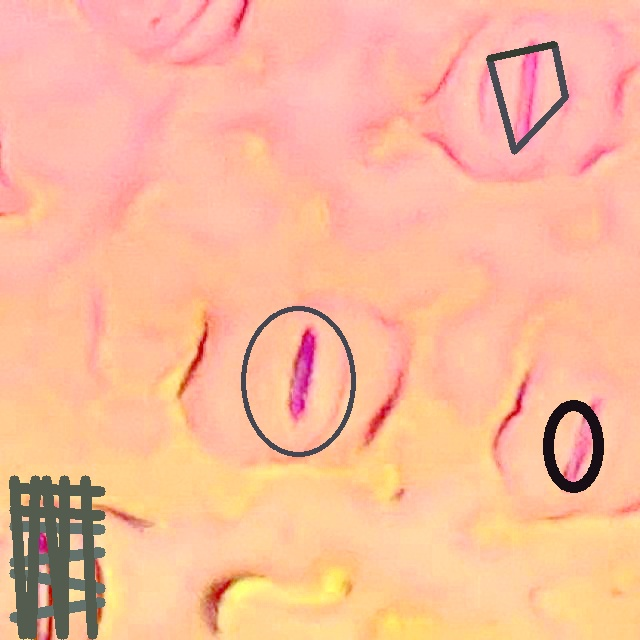open: (239, 305, 356, 457), (10, 475, 104, 639), (486, 41, 568, 154), (542, 399, 604, 493)
